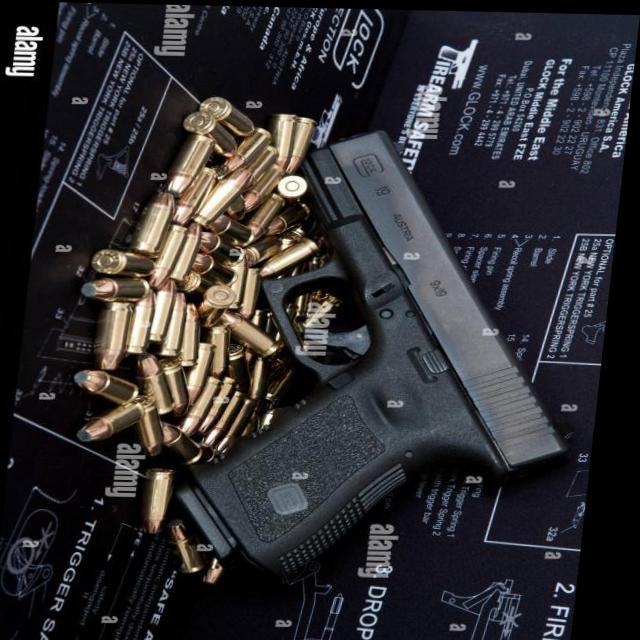handgun: (119, 92, 610, 589)
